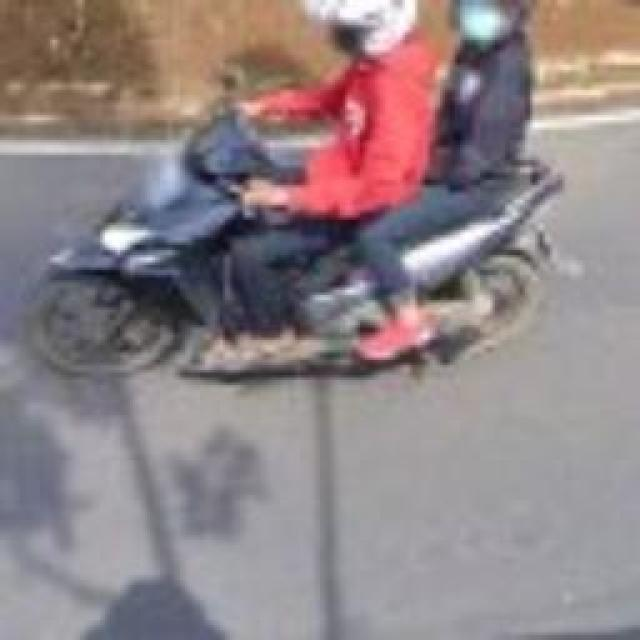Motor: (22, 112, 562, 382)
